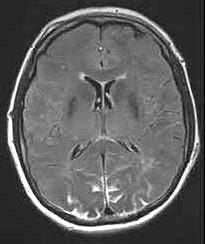Normal_Brain: (1, 2, 206, 244)
